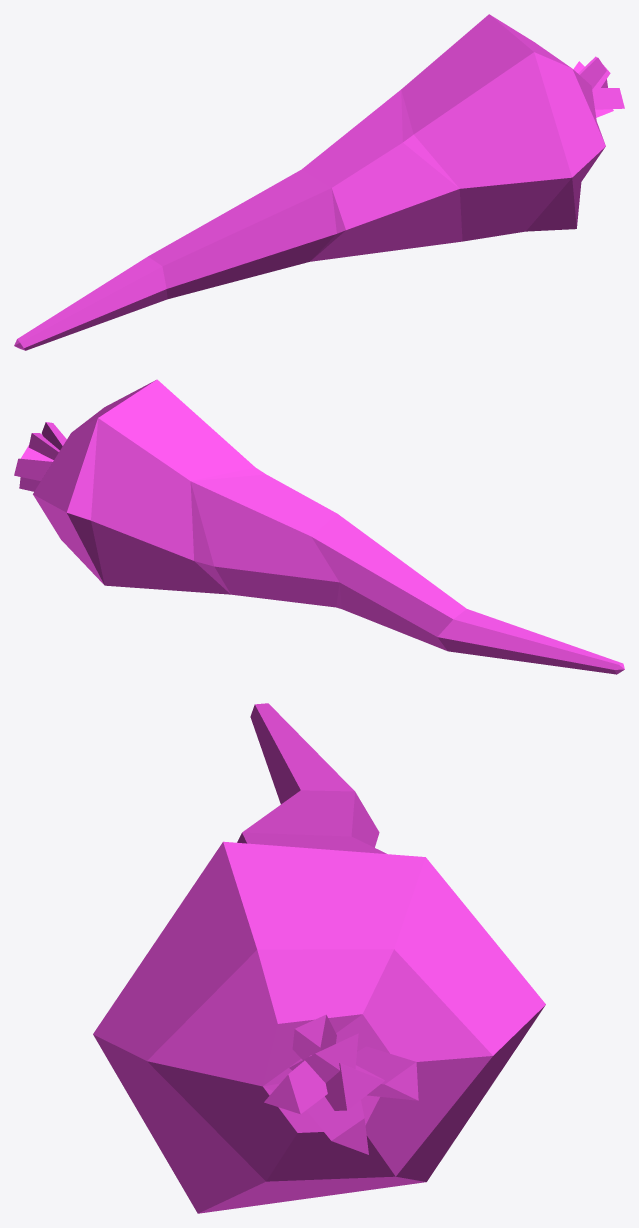
Rendered from SM_Parsnip_B.fbx.
3 renders of one model, top to bottom at view 1: azimuth 30°, elevation 25°; view 2: azimuth 150°, elevation 25°; view 3: azimuth 270°, elevation 25°, orthographic. The views are drawn at different scales.
Parts seen in each view (by area): view 1: SM_Parsnip_B; view 2: SM_Parsnip_B; view 3: SM_Parsnip_B.
Boxes of the visible parts, <box> form: SM_Parsnip_B: <box>14,14,624,350</box>; SM_Parsnip_B: <box>14,379,624,674</box>; SM_Parsnip_B: <box>93,703,545,1213</box>.
Bounding box in the file's own units: 0.4186 × 0.1189 × 0.1417.
